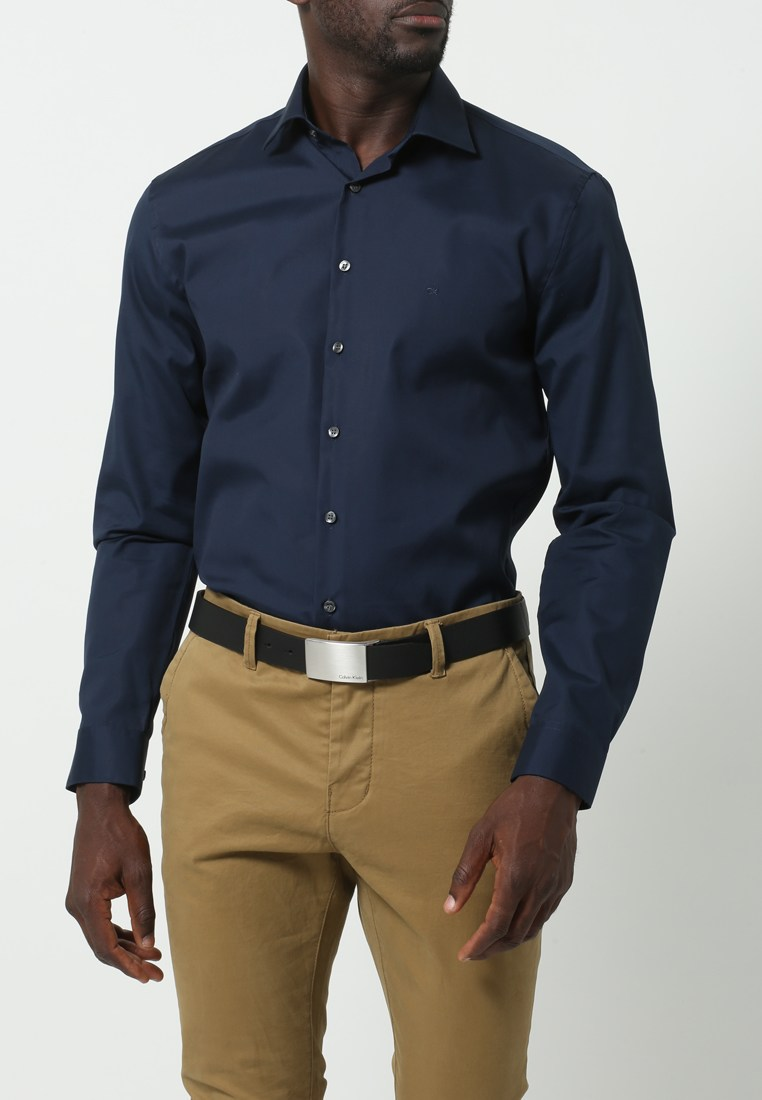F_belt: (163, 596, 545, 683)
F_shirt: (55, 80, 673, 809)
